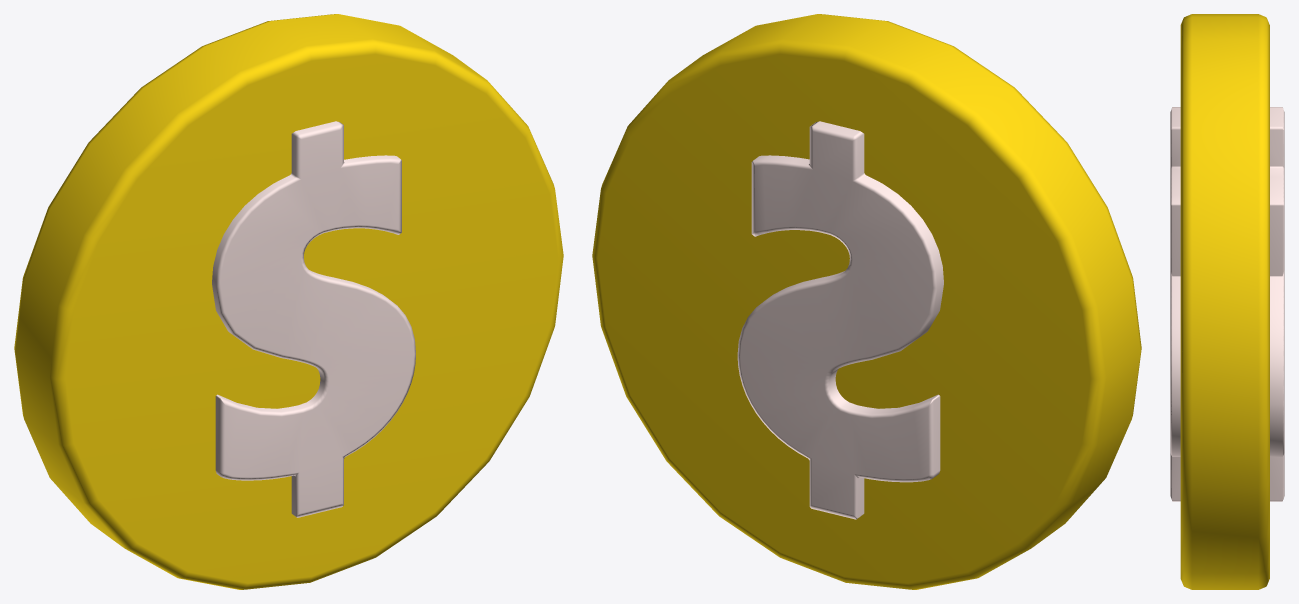
Rendered from Public_1_Coin_Dollar_2.glb.
3 views of the same model, side by side, from view 1: azimuth 30°, elevation 25°; view 2: azimuth 150°, elevation 25°; view 3: azimuth 270°, elevation 25° (orthographic). The views are drawn at different scales.
Visible parts, largest first — view 1: Public_1_Coin_Dollar_2; view 2: Public_1_Coin_Dollar_2; view 3: Public_1_Coin_Dollar_2.
Part boxes in pixels (x1,y1,x2,y2): Public_1_Coin_Dollar_2: (14, 14, 563, 589); Public_1_Coin_Dollar_2: (592, 14, 1141, 589); Public_1_Coin_Dollar_2: (1170, 14, 1284, 589).
Size of the model in its own units: 1.11 by 1.11 by 0.2195.
1 material, 1 textured.
